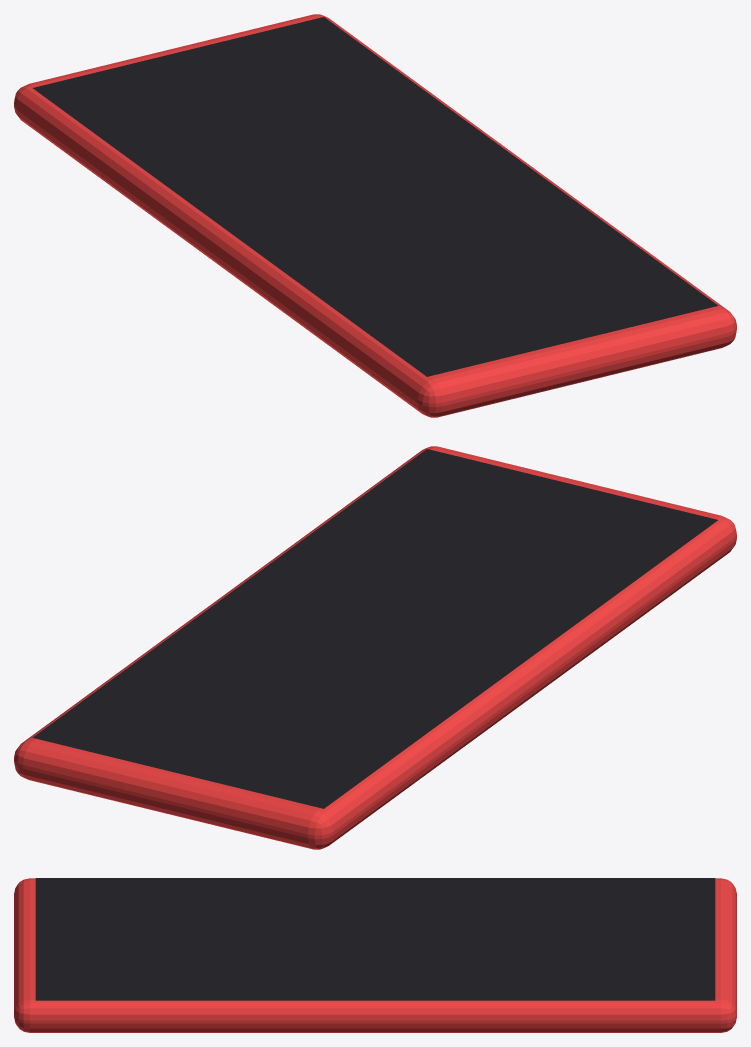
The model's file is Phone_57.glb.
3 renders of one model, top to bottom at view 1: azimuth 30°, elevation 25°; view 2: azimuth 150°, elevation 25°; view 3: azimuth 270°, elevation 25°, orthographic. The views are drawn at different scales.
Visible parts, largest first — view 1: Phone_Screen, Phone_Body; view 2: Phone_Screen, Phone_Body; view 3: Phone_Screen, Phone_Body.
Part boxes in pixels (bbox=[...]): Phone_Screen: bbox=[33, 17, 718, 376]; Phone_Body: bbox=[14, 14, 736, 417]; Phone_Screen: bbox=[32, 449, 717, 808]; Phone_Body: bbox=[14, 446, 736, 849]; Phone_Screen: bbox=[35, 878, 715, 1000]; Phone_Body: bbox=[14, 878, 736, 1032].
Bounding box in the file's own units: 0.0705 × 0.008 × 0.1618.
